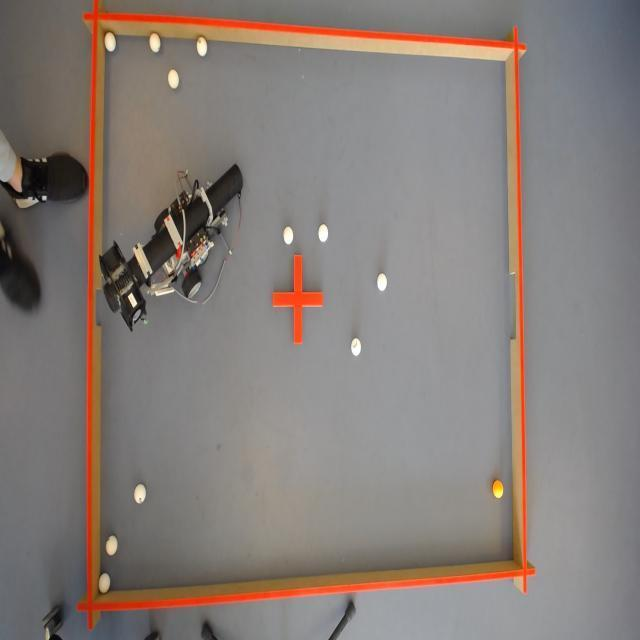orange: (491, 476, 504, 500)
robot: (100, 158, 236, 338)
white: (96, 572, 111, 594), (148, 34, 162, 54), (348, 336, 362, 356), (133, 484, 146, 504), (168, 66, 179, 89), (315, 222, 327, 243), (196, 36, 207, 58), (108, 534, 119, 556), (282, 225, 294, 245), (376, 271, 388, 291), (102, 34, 114, 52)
